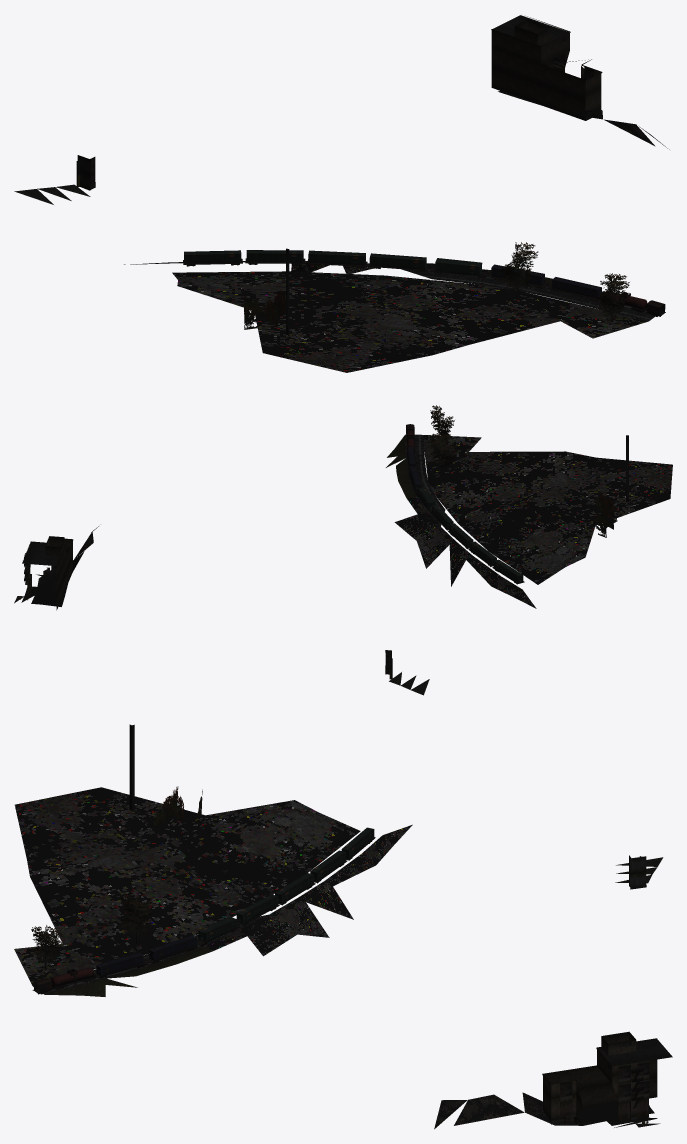
Rendered from cell_12_0.gltf.
The picture shows the model from 3 angles, top to bottom: view 1: azimuth 30°, elevation 25°; view 2: azimuth 150°, elevation 25°; view 3: azimuth 270°, elevation 25°; orthographic projection. The views are drawn at different scales.
Parts seen in each view (by area): view 1: cell_12_0; view 2: cell_12_0; view 3: cell_12_0.
Boxes of the visible parts, x1,y1,x2,y2 form: cell_12_0: (14,15,669,372); cell_12_0: (14,405,672,695); cell_12_0: (14,724,672,1129).
Size of the model in its own units: 277 by 67.99 by 276.
32 materials, 32 textured.
